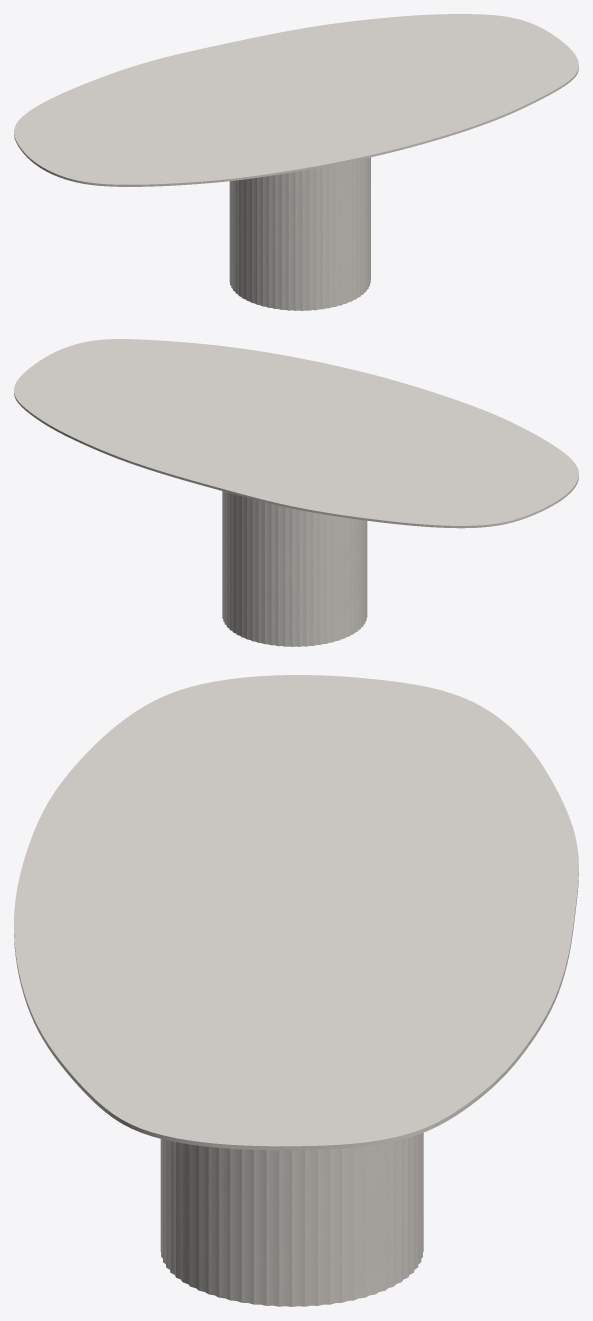
The model's file is pearlwhite_danish_facet_ripple.glb.
3 renders of one model, top to bottom at view 1: azimuth 30°, elevation 25°; view 2: azimuth 150°, elevation 25°; view 3: azimuth 270°, elevation 25°, orthographic. The views are drawn at different scales.
Visible parts, largest first — view 1: facet_danish, ripple; view 2: facet_danish, ripple; view 3: facet_danish, ripple.
Part boxes in pixels (box(x1,y1,x2,y2)): facet_danish: box(14, 14, 578, 186); ripple: box(229, 157, 370, 310); facet_danish: box(14, 339, 578, 528); ripple: box(222, 491, 367, 646); facet_danish: box(14, 675, 578, 1150); ripple: box(160, 1132, 423, 1306).
Bounding box in the file's own units: 7.5 × 2.51 × 3.8.
1 material, 1 textured.
